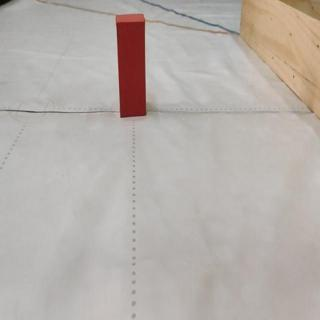redbox: (115, 14, 146, 117)
